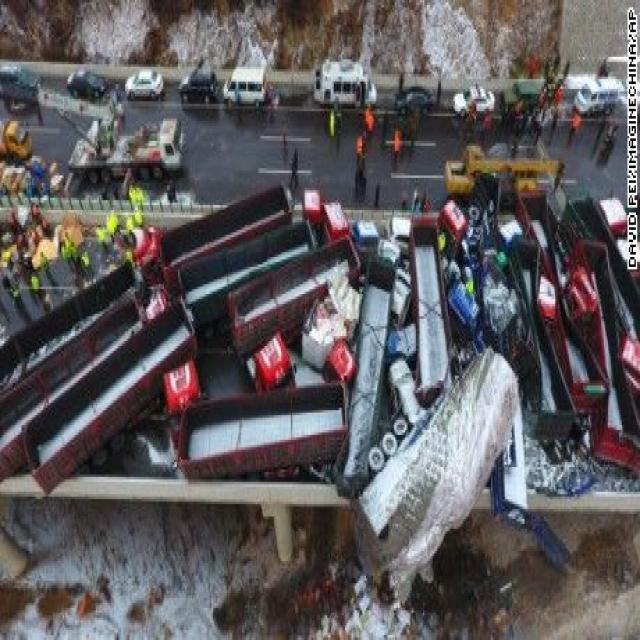traffic_incident: (3, 196, 634, 484)
